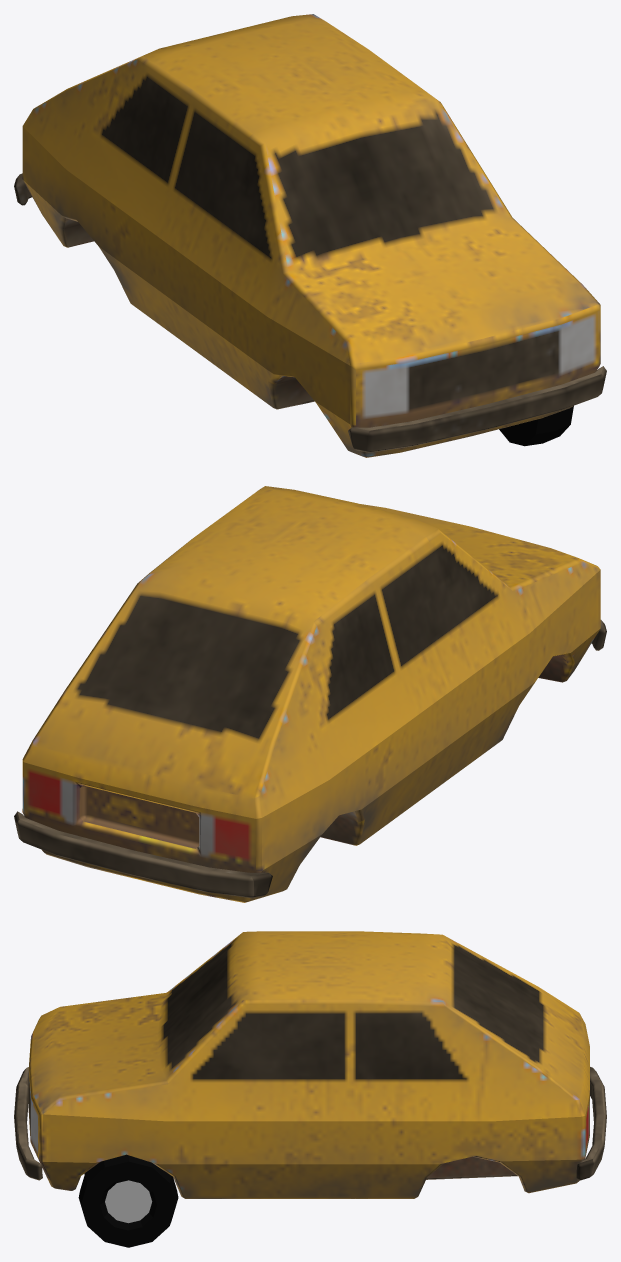
Rendered from car.glb.
3 renders of one model, top to bottom at view 1: azimuth 30°, elevation 25°; view 2: azimuth 150°, elevation 25°; view 3: azimuth 270°, elevation 25°, orthographic. The views are drawn at different scales.
Parts seen in each view (by area): view 1: car_body, car3; view 2: car_body; view 3: car_body, car3.
Part boxes in pixels (x1,y1,x2,y2): car_body: (14,14,606,457); car3: (499,405,573,446); car_body: (14,486,606,902); car_body: (14,931,606,1198); car3: (78,1154,178,1247).
Size of the model in its own units: 1.5 by 1.64 by 3.62.
Materials: 3 (1 with a texture image).
